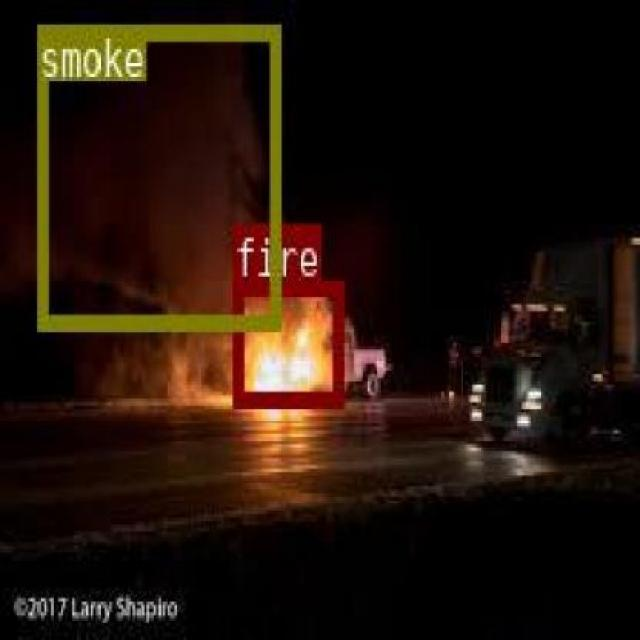Fire: (230, 278, 342, 404)
Smoke: (35, 21, 278, 326)
